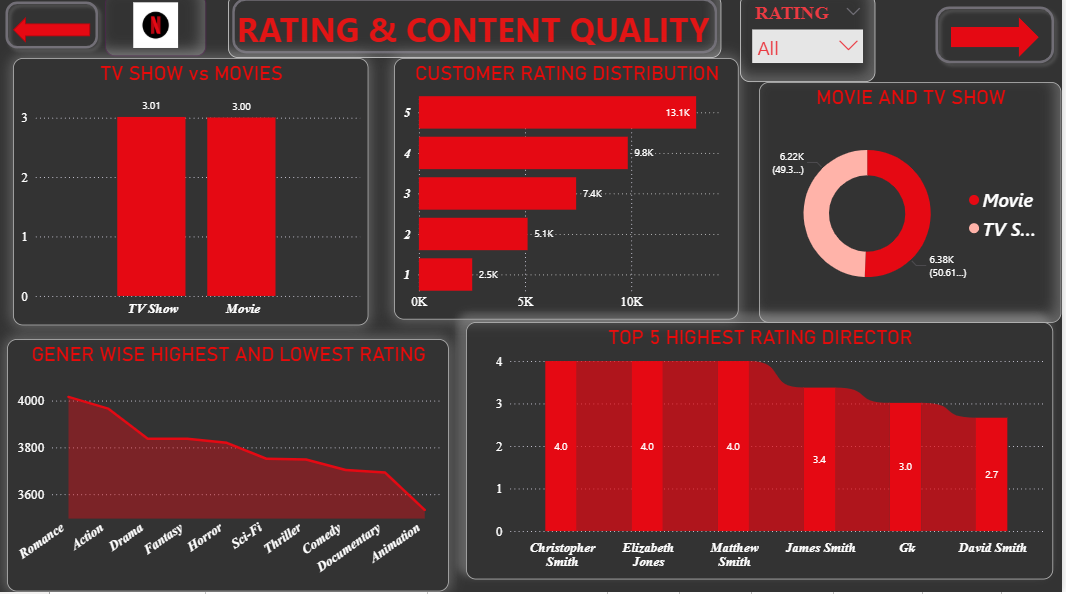

The dashboard page shown, as its layout file describes it:
{"tool":"powerbi","page":{"name":"RATING AND CONTENT QUALITY ","canvas":[1280,720],"ordinal":2},"visuals":[{"type":"actionButton","title":"CUSTOMERS","box":[251.4,5.5,641.3,71.1],"z":0},{"type":"actionButton","box":[276.9,0,593.9,76.5],"z":1000},{"type":"actionButton","box":[1119.6,5.9,160.8,86.3],"z":2000},{"type":"shape","box":[1147.1,27.5,105.8,48.7],"z":3000},{"type":"image","box":[129.4,0,122.1,74.7],"z":4000},{"type":"actionButton","box":[0,0,129.4,74.7],"z":5000},{"type":"shape","box":[18.2,27.3,92.9,31],"z":6000},{"type":"donutChart","title":"MOVIE AND TV SHOW","fields":{"Category":["netflix_dataset_20000 csv.type"],"Y":["netflix_customer_ratings_20000.watch_time_minutes"]},"box":[916.4,105.7,364.4,289.7],"z":7000},{"type":"areaChart","title":"GENER WISE HIGHEST AND LOWEST RATING","fields":{"Category":["netflix_dataset_20000 csv.genre"],"Y":["netflix_customer_ratings_20000.rating"]},"box":[10.9,415.4,532,304.3],"z":8000},{"type":"ribbonChart","title":"TOP 5 HIGHEST RATING DIRECTOR","fields":{"Category":["netflix_dataset_20000 csv.director"],"Y":["measure_ table.DIRECTOR AVG"]},"box":[563,395.4,706.9,309.7],"z":9000},{"type":"clusteredBarChart","title":"CUSTOMER RATING DISTRIBUTION","fields":{"Y":["netflix_customer_ratings_20000.rating"],"Category":["netflix_customer_ratings_20000.rating"]},"box":[477.3,76.5,415.4,315.2],"z":10000},{"type":"slicer","fields":{"Values":["netflix_customer_ratings_20000.rating"]},"box":[893.1,0,163,105.8],"z":11000},{"type":"clusteredColumnChart","title":"TV SHOW vs MOVIES","fields":{"Category":["netflix_dataset_20000 csv.type"],"Y":["netflix_customer_ratings_20000.rating"]},"box":[18.2,76.5,428.2,322.5],"z":12000}]}

Visuals, with their boxes in screenshot pixels (x1, y1, x2, y2), scaled from the page's 1280x720 canvas onto the 1066x594 screenshot:
"CUSTOMERS" actionButton: [209, 5, 743, 63]
actionButton: [231, 0, 725, 63]
actionButton: [932, 5, 1065, 76]
shape: [955, 23, 1043, 63]
image: [108, 0, 209, 62]
actionButton: [0, 0, 108, 62]
shape: [15, 23, 93, 48]
"MOVIE AND TV SHOW" donutChart: [763, 87, 1065, 326]
"GENER WISE HIGHEST AND LOWEST RATING" areaChart: [9, 343, 452, 593]
"TOP 5 HIGHEST RATING DIRECTOR" ribbonChart: [469, 326, 1058, 582]
"CUSTOMER RATING DISTRIBUTION" clusteredBarChart: [398, 63, 743, 323]
slicer - netflix_customer_ratings_20000.rating: [744, 0, 880, 87]
"TV SHOW vs MOVIES" clusteredColumnChart: [15, 63, 372, 329]
